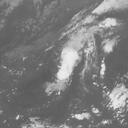cyclone: (56, 44, 81, 82)
